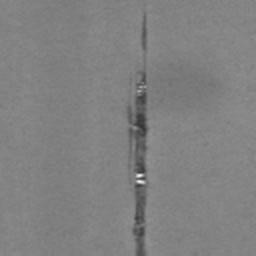Slag inclusion: (128, 0, 152, 256)
